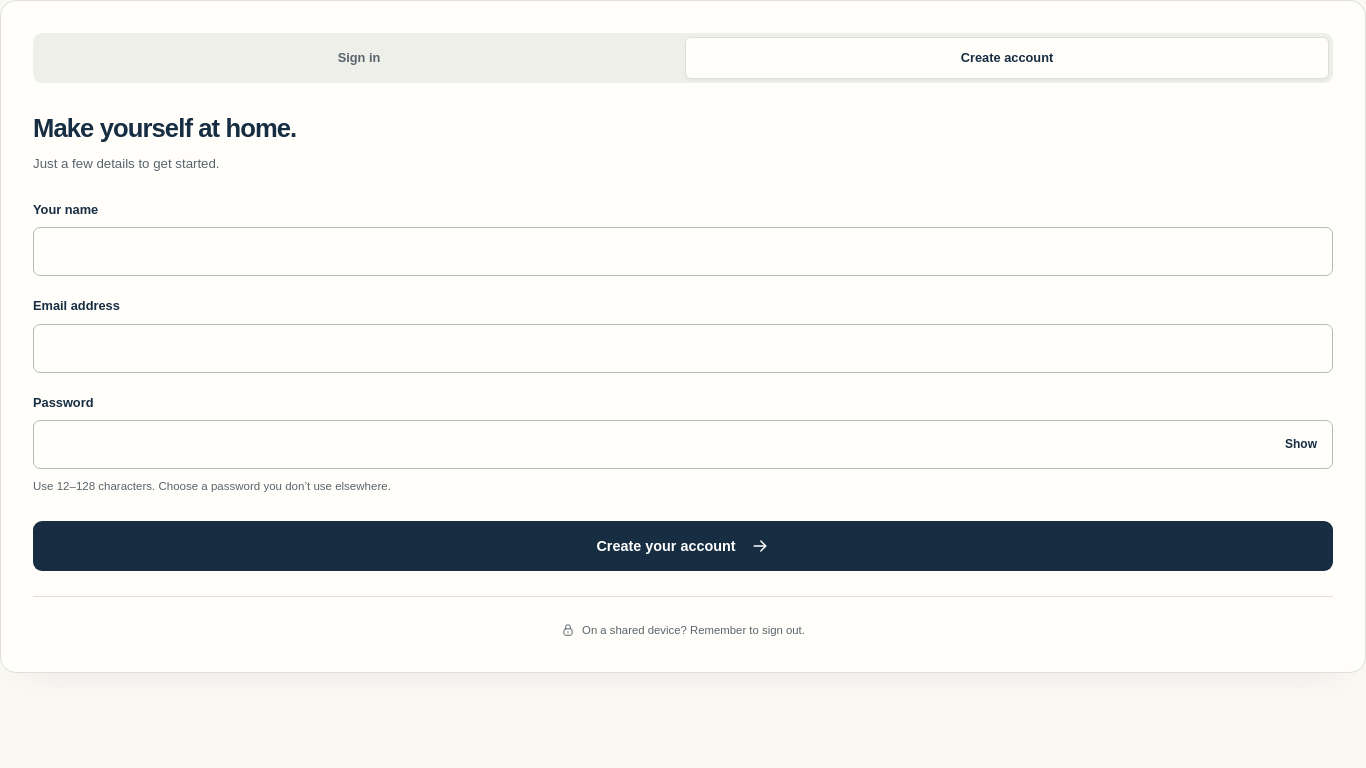
Test case: Better Auth account form › does not navigate after rejected sign-up
In the field labelled "Your name": (683, 252) [33, 227, 1333, 276], type "Asha"
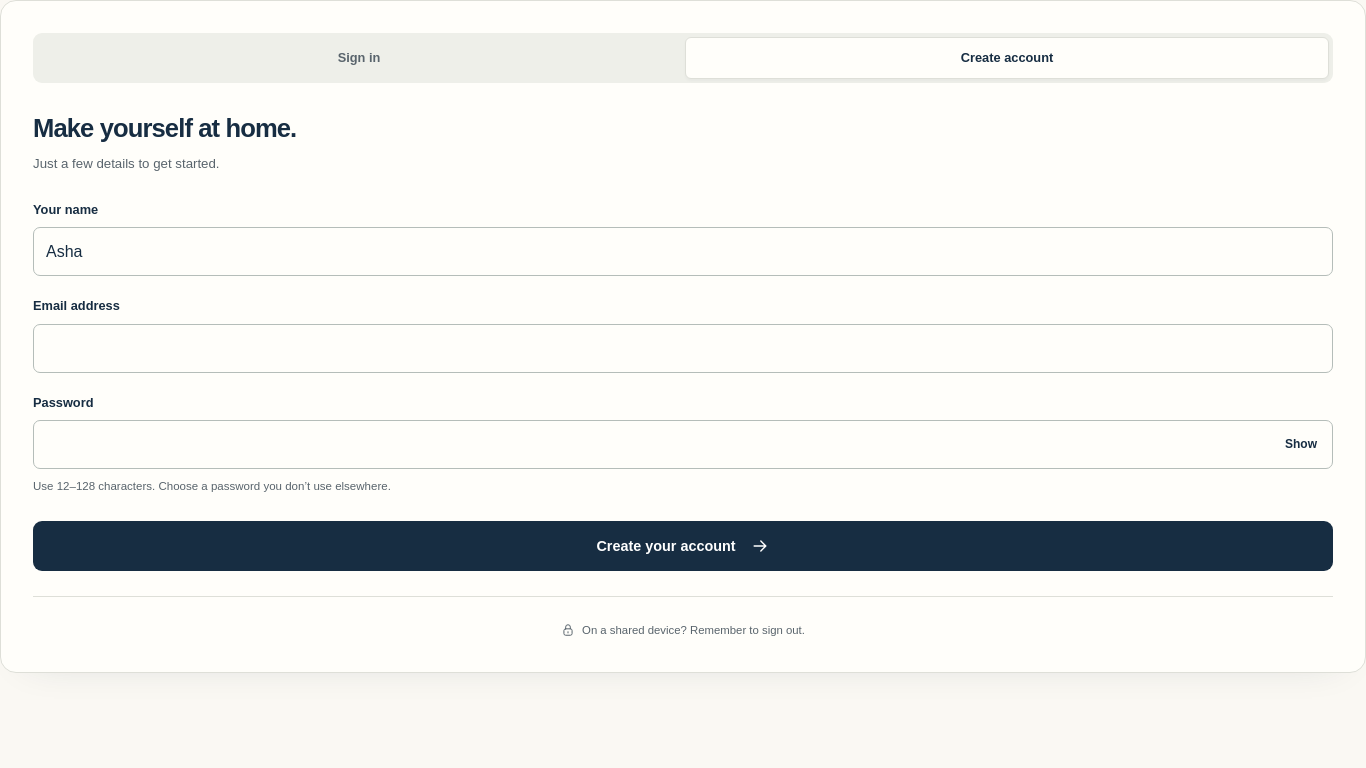
In the field labelled "Email address": (683, 348) [33, 324, 1333, 373], type "asha@example.com"
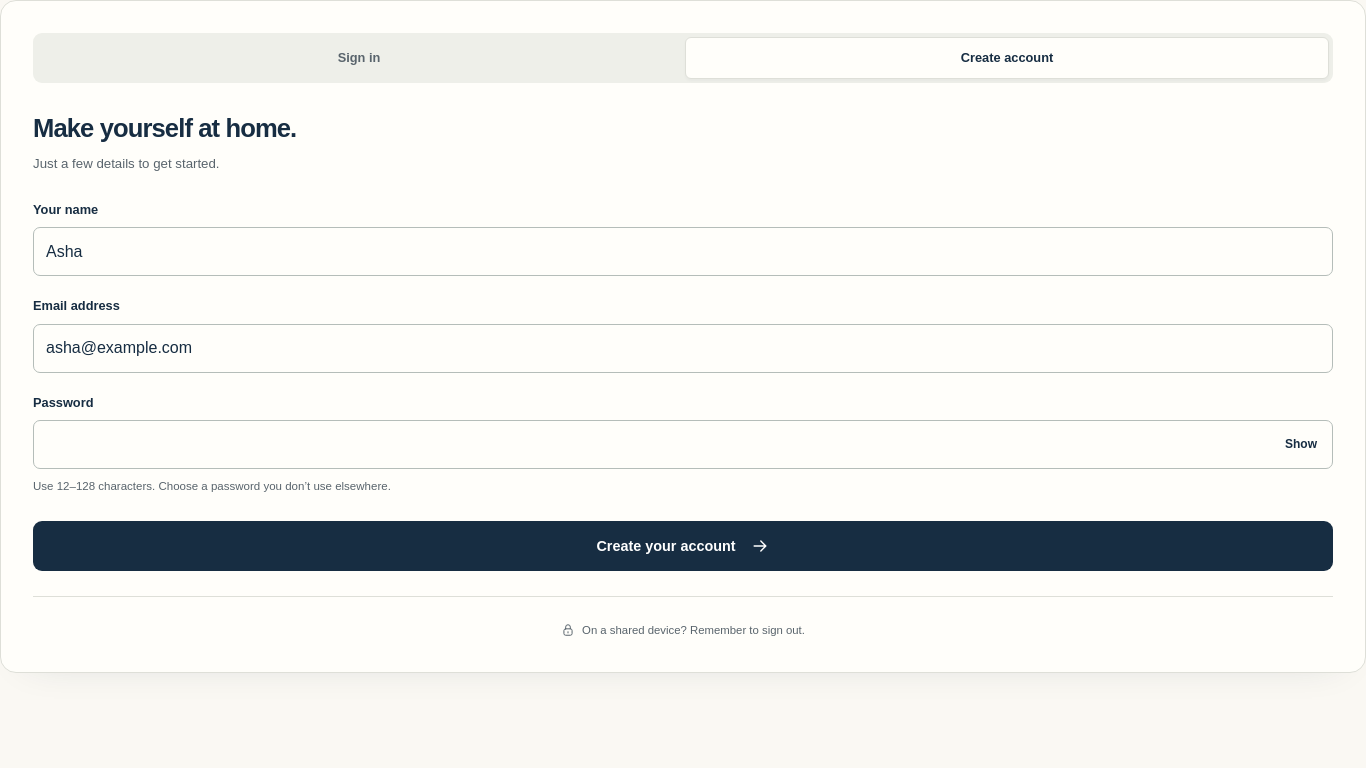
In the password field labelled "Password": (683, 445) [33, 420, 1333, 469], type "A-long-test-password!"
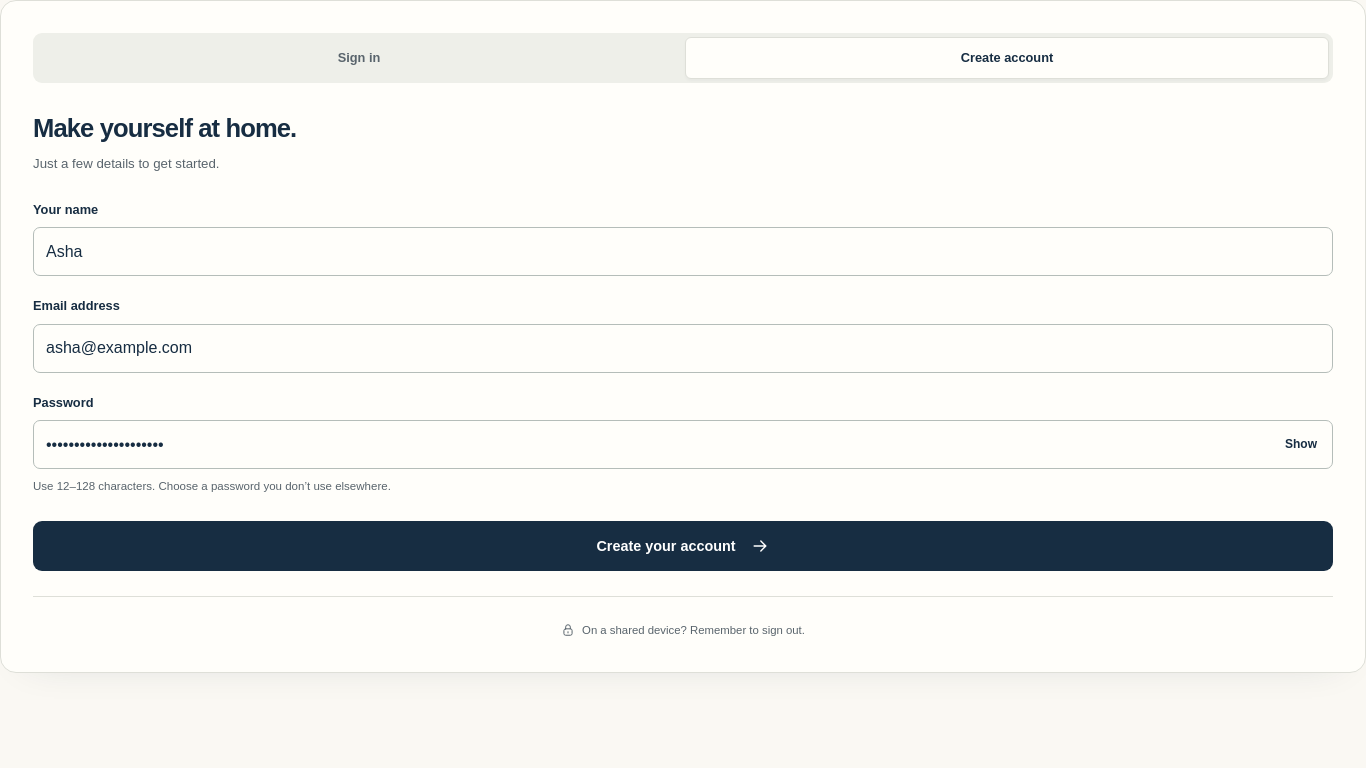
Submit the form named "Create your account", box [33, 200, 1333, 571]
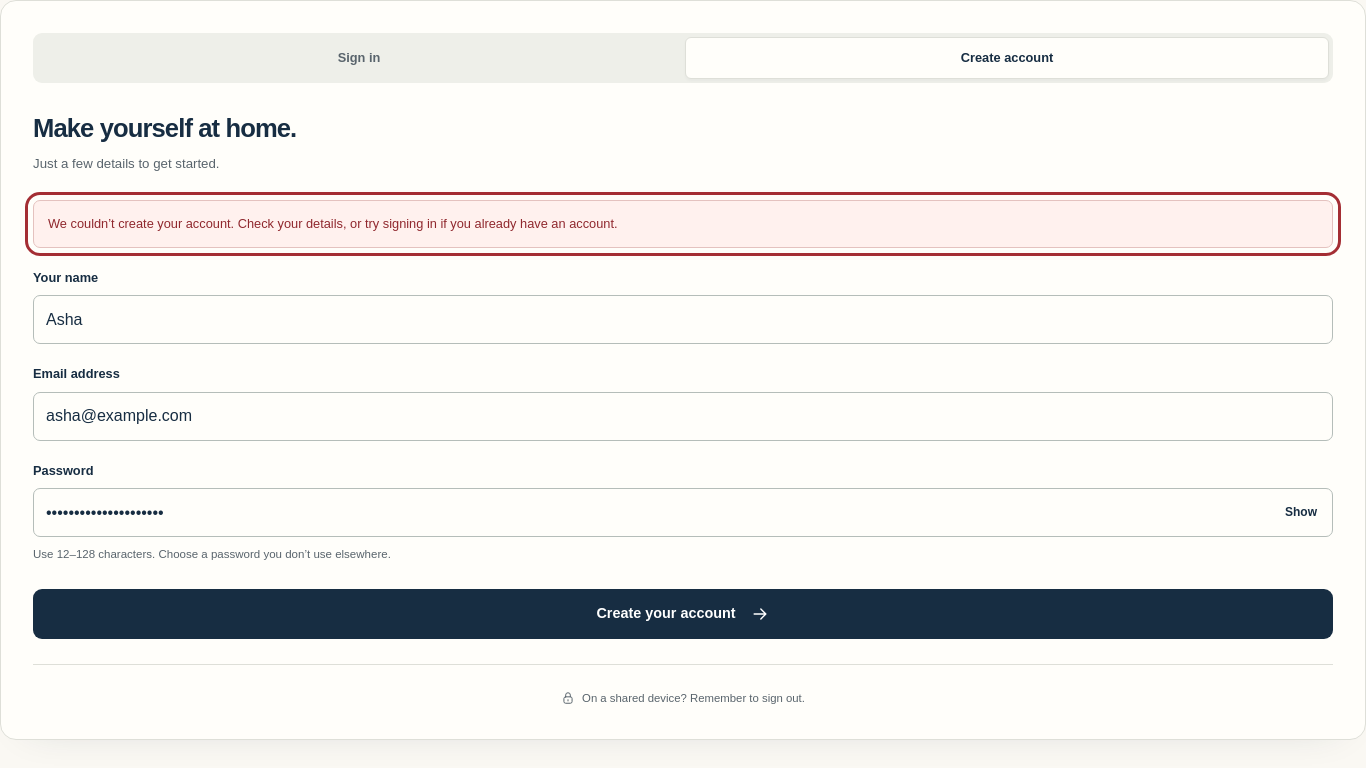
Now the message shows "We couldn’t create your account.", box [48, 216, 618, 231]
